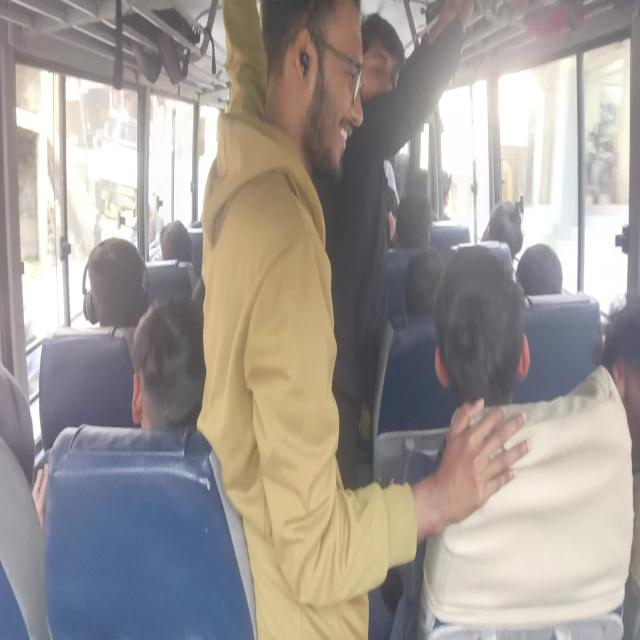person: (196, 0, 532, 638), (416, 242, 635, 638), (316, 0, 476, 490), (31, 292, 206, 530), (434, 242, 530, 408), (130, 292, 206, 432), (516, 242, 563, 296), (158, 219, 192, 262)
